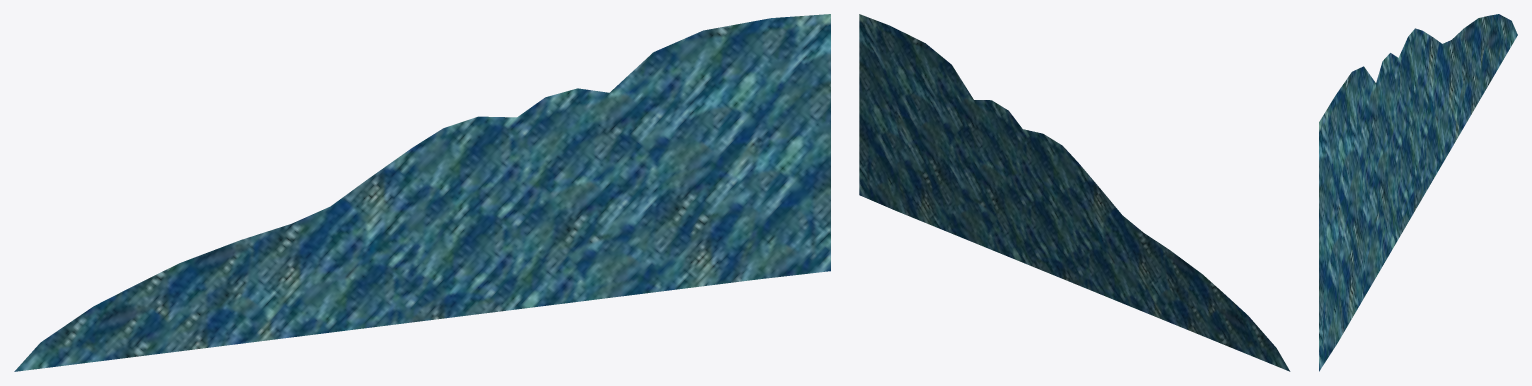
Rendered from shan2.fbx.
The picture shows the model from 3 angles, left to right: view 1: azimuth 30°, elevation 25°; view 2: azimuth 150°, elevation 25°; view 3: azimuth 270°, elevation 25°; orthographic projection. The views are drawn at different scales.
Visible parts, largest first — view 1: shan2; view 2: shan2; view 3: shan2.
Part boxes in pixels (left/top/right/bottom): shan2: left=14, top=14, right=830, bottom=371; shan2: left=859, top=14, right=1290, bottom=371; shan2: left=1319, top=14, right=1517, bottom=371.
Bounding box in the file's own units: 19 × 6.63 × 4.72.
